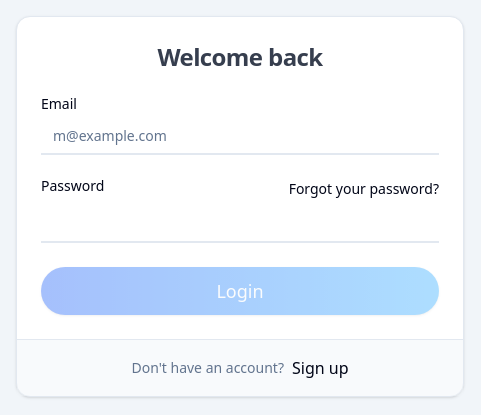
Test case: SignIn Component › should disable button while submitting
Type "test@example.com" into the field labelled "Email".
click(240, 136); type("test@example.com")  # box x1=41 y1=118 x2=439 y2=154
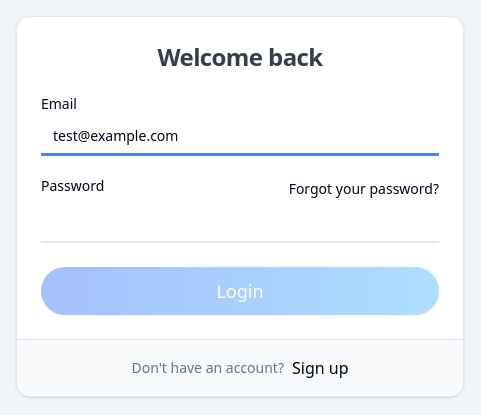
Type "password" into the password field labelled "Password".
click(240, 224); type("password")  # box x1=41 y1=206 x2=439 y2=242
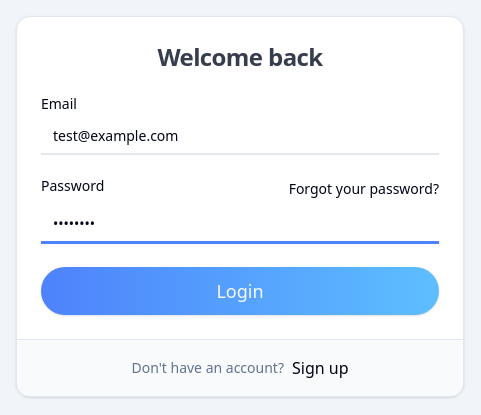
Expected: the button "Login" is enabled, x1=41 y1=266 x2=439 y2=314
